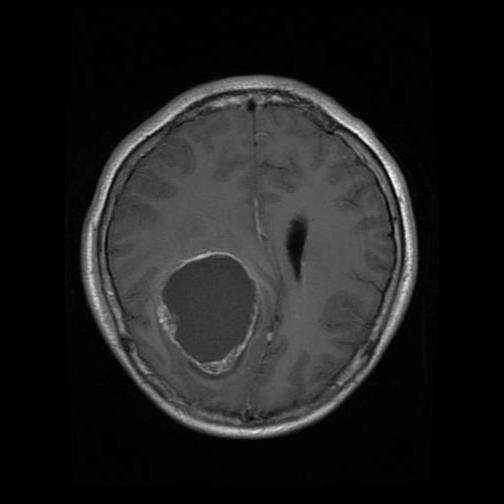Tumour-Glioma: (159, 248, 269, 379)
